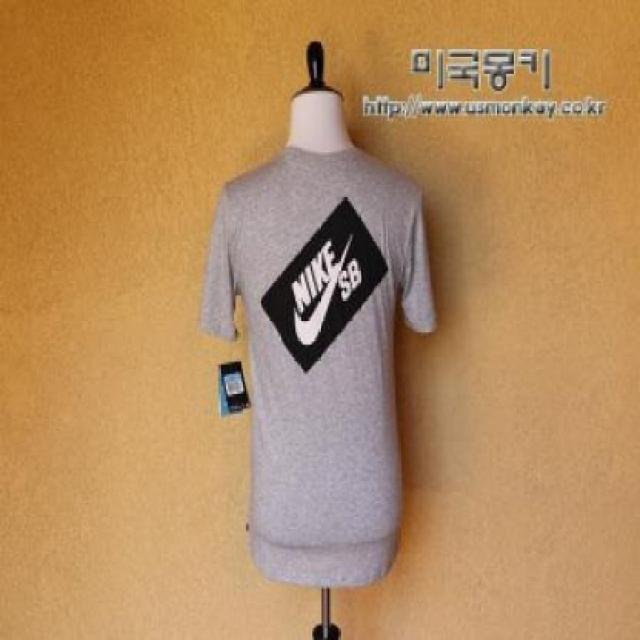Nike: (283, 226, 349, 348)
